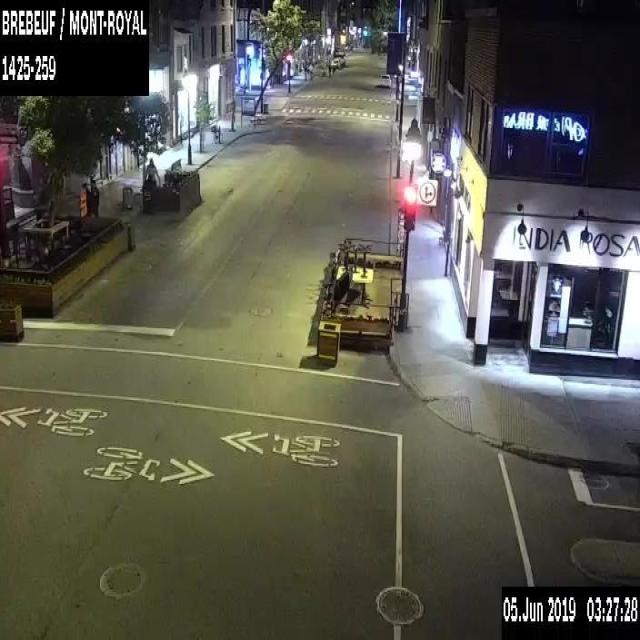pedestrian: (146, 156, 160, 191), (88, 179, 100, 217), (326, 59, 332, 76)
vehicle: (330, 54, 345, 68), (378, 74, 392, 88)
